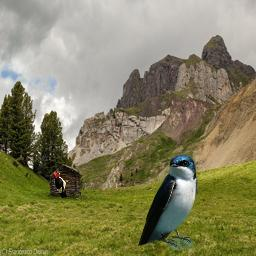Swallow: (138, 153, 200, 250)
Woodpecker: (53, 172, 69, 199)
